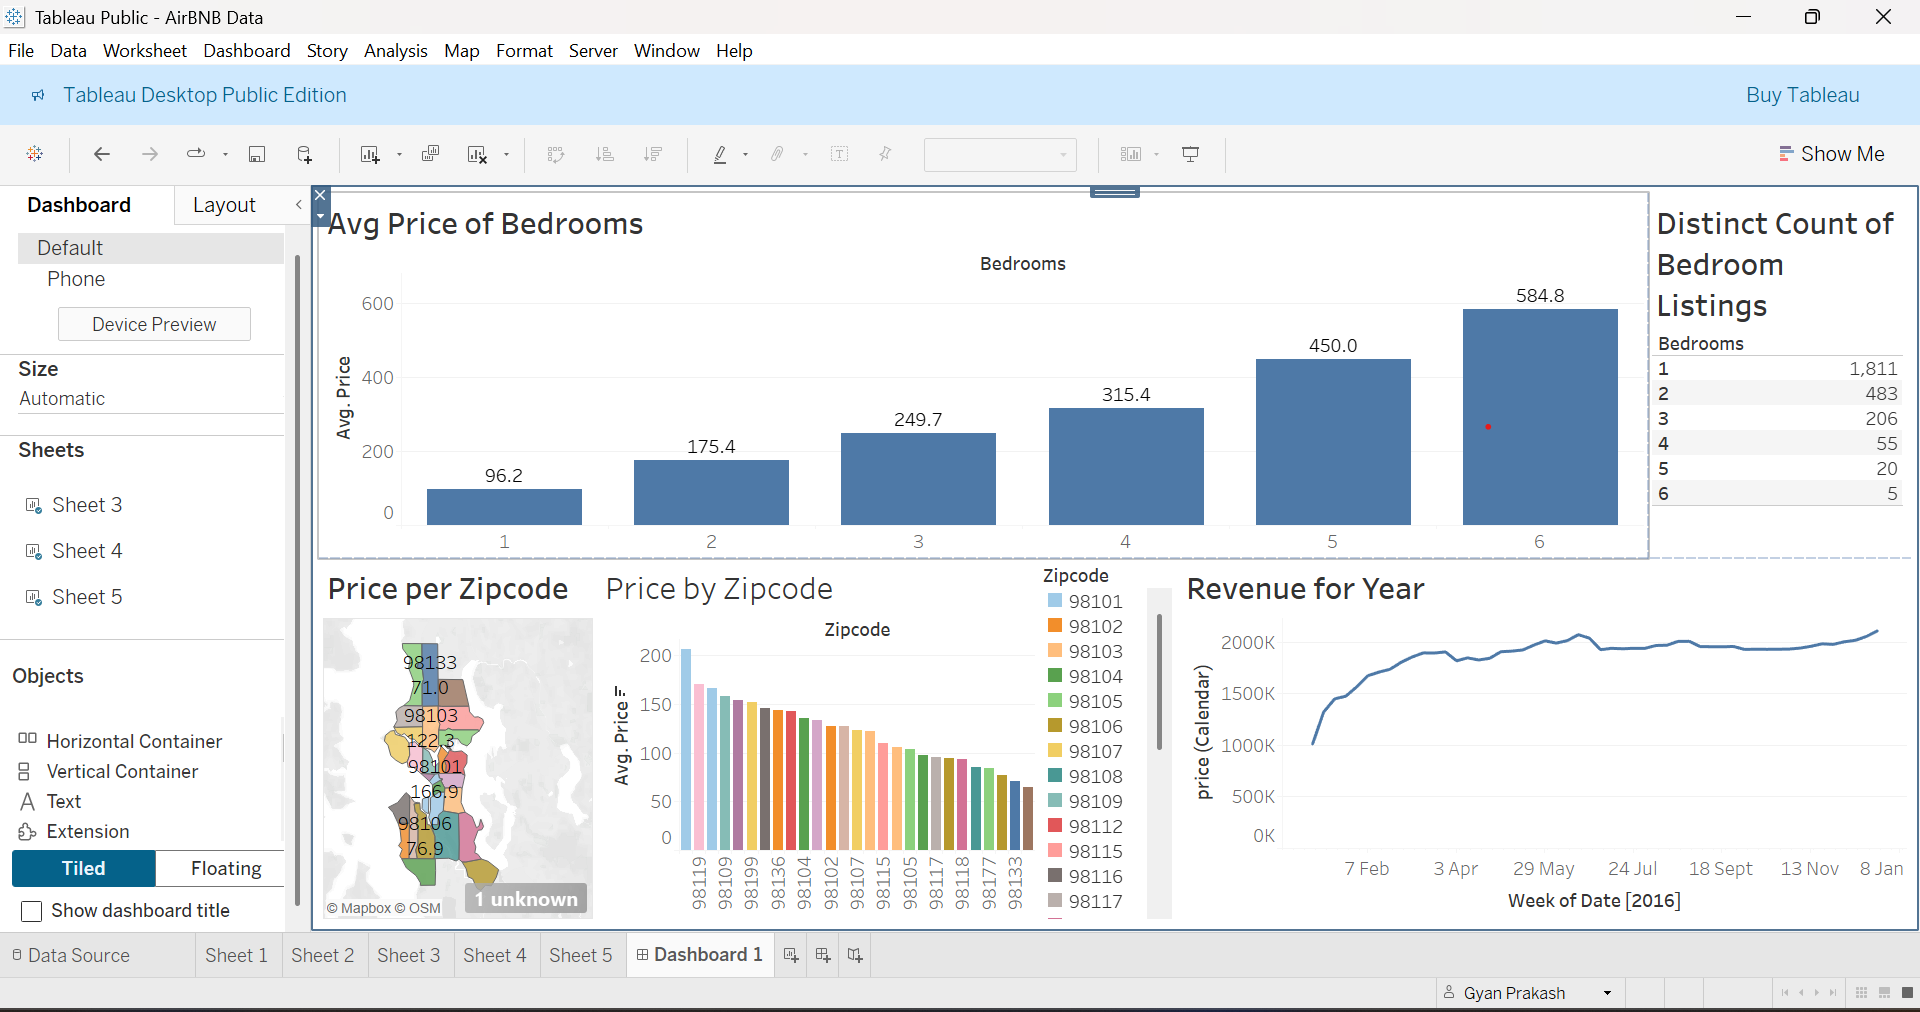

Layout of this report page (visuals, bound fields, positions):
{"tool":"tableau","page":{"name":"Dashboard 1","canvas":[1000,1000],"units":"permille","ordinal":0},"visuals":[{"type":"worksheet","title":"Sheet 4","mark":"Automatic","rows":["price"],"cols":["bedrooms"],"box":[5,10.7,826.5,489.2]},{"type":"worksheet","title":"Sheet 5","mark":"Automatic","rows":["bedrooms"],"box":[831.4,10.7,163.6,489.2]},{"type":"worksheet","title":"Sheet 2","mark":"Multipolygon","box":[5,500,172.9,489.3]},{"type":"worksheet","title":"Sheet 1","mark":"Automatic","rows":["price"],"cols":["zipcode"],"box":[177.8,500,274.9,489.3]},{"type":"legend","title":"Sheet 1","param":"[federated.1te1t0h0h7guyi15ntruc07lpcwy].[none:zipcode:nk]","box":[452.7,500,86.4,489.3]},{"type":"worksheet","title":"Sheet 3","mark":"Automatic","rows":["price (Calendar)"],"cols":["date"],"box":[539.1,500,455.9,489.3]}]}

Visuals, with their boxes on the dashboard's canvas, which has no fixed pixel size, in thousandths of its width and height (x1, y1, x2, y2). These are canvas units, not pixel positions in the 1920x1012 screenshot, which may show the page scaled, cropped or inside an application window:
"Sheet 4" worksheet: locate(5, 11, 832, 500)
"Sheet 5" worksheet: locate(831, 11, 995, 500)
"Sheet 2" worksheet (Multipolygon marks): locate(5, 500, 178, 989)
"Sheet 1" worksheet: locate(178, 500, 453, 989)
"Sheet 1" legend: locate(453, 500, 539, 989)
"Sheet 3" worksheet: locate(539, 500, 995, 989)
